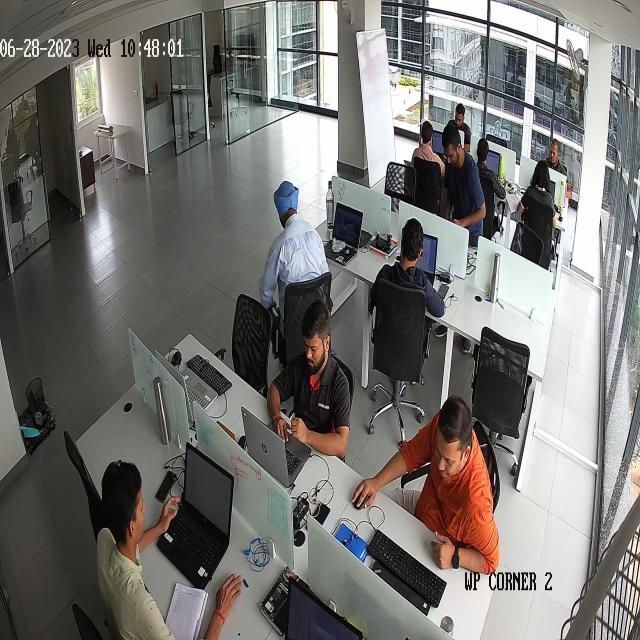chair: (366, 274, 452, 453), (393, 406, 479, 554), (468, 323, 528, 511), (212, 290, 258, 402), (63, 434, 104, 518), (386, 152, 422, 216), (70, 594, 104, 640)
keyboard: (362, 508, 448, 614), (186, 344, 234, 401)
laptop: (159, 435, 239, 592), (352, 550, 432, 634), (239, 401, 311, 484), (152, 348, 216, 432), (319, 194, 363, 274), (401, 224, 439, 279), (429, 126, 447, 158), (487, 148, 501, 178)
person: (353, 437, 485, 593), (248, 320, 354, 477), (92, 455, 163, 640), (263, 178, 339, 299), (382, 220, 446, 362), (433, 116, 491, 248), (402, 121, 441, 202), (520, 156, 551, 224), (548, 136, 574, 198), (470, 137, 495, 200), (448, 92, 470, 144)
phone: (149, 460, 179, 508), (311, 502, 335, 532), (435, 274, 451, 304)
